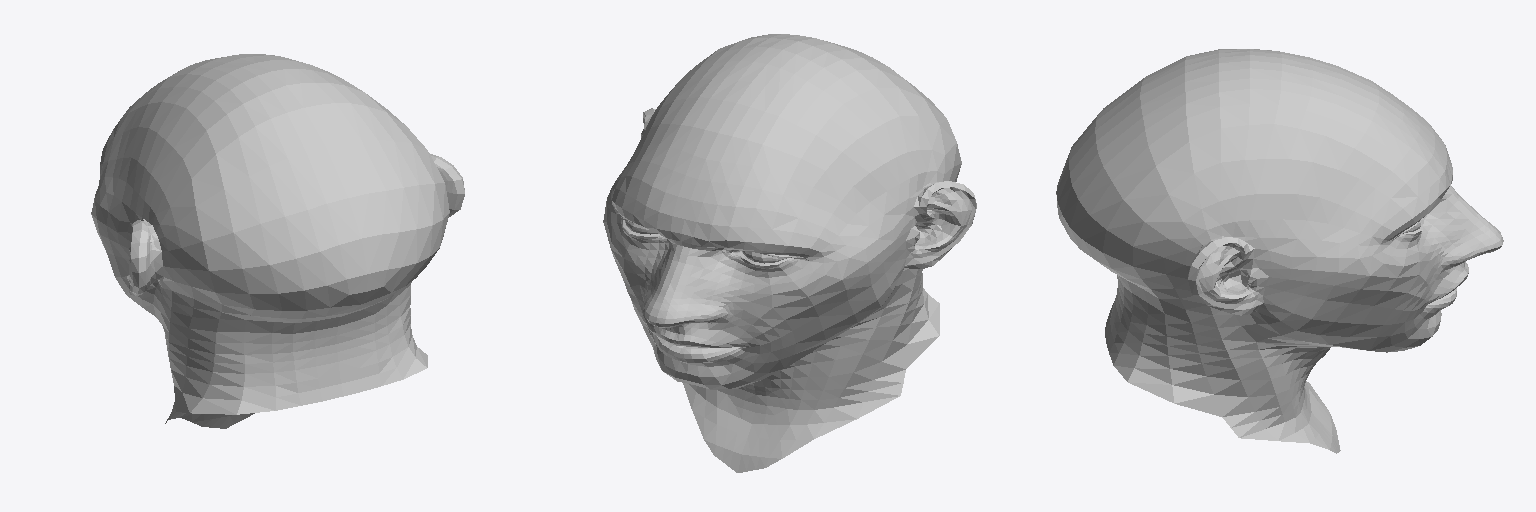
The model's file is round.obj.
3 views of the same model, side by side, from view 1: azimuth 30°, elevation 25°; view 2: azimuth 150°, elevation 25°; view 3: azimuth 270°, elevation 25° (orthographic).
Parts seen in each view (by area): view 1: mesh0; view 2: mesh0; view 3: mesh0.
Part boxes in pixels (x1,y1,x2,y2): mesh0: (91,54,464,428); mesh0: (603,34,976,472); mesh0: (1056,49,1503,453).
Bounding box in the file's own units: 28.48 × 32 × 33.22.